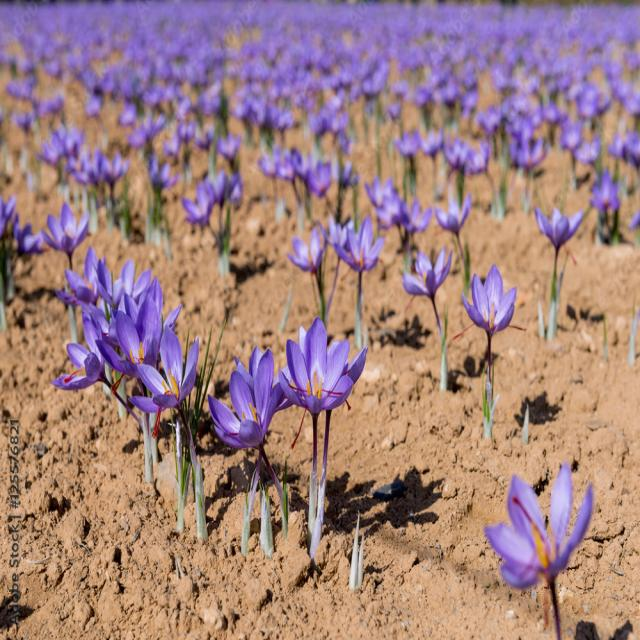saffron open: (485, 463, 592, 639), (279, 317, 354, 547), (130, 324, 207, 540), (208, 349, 291, 494), (334, 216, 385, 349), (462, 264, 516, 377), (98, 292, 162, 379), (52, 311, 111, 390), (402, 247, 452, 339), (41, 202, 89, 270), (55, 247, 100, 305), (536, 208, 584, 257), (287, 229, 326, 274), (435, 193, 471, 238), (112, 390, 139, 421)
